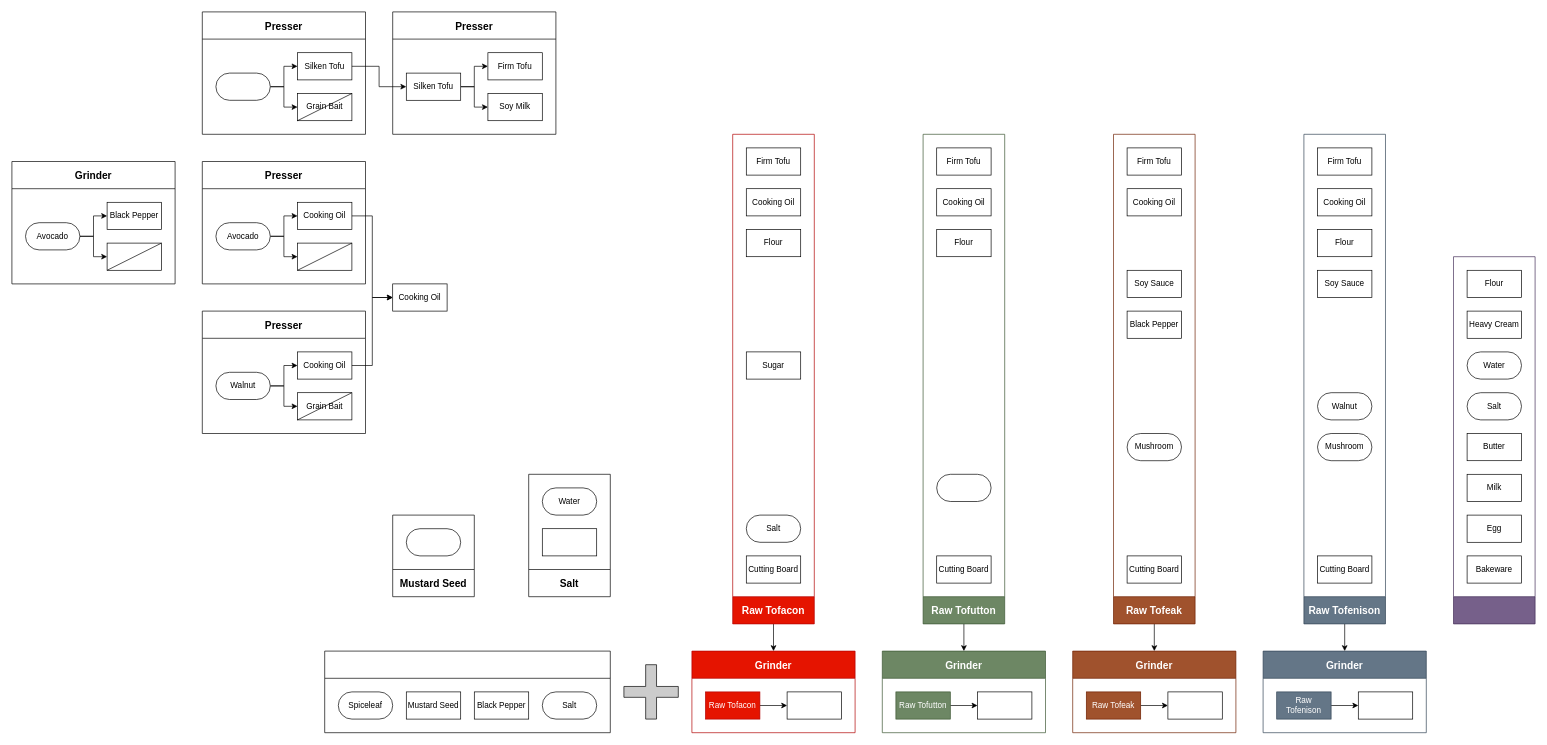
The diagram is 1547 pixels wide and 745 high, and some of its shapes have lost their labels. Each missing label, with the box of its shape:
Brioche: (1453, 256, 1535, 624)
Fruit Bait: (297, 242, 352, 270)
Ground Beef: (1167, 691, 1222, 719)
Ground Mutton: (977, 691, 1032, 719)
Ground Pork: (786, 691, 842, 719)
Ground Venison: (1358, 691, 1413, 719)
Mustard: (406, 528, 461, 556)
Patty Ingredients: (324, 650, 610, 733)
Pot: (542, 528, 597, 556)
Potato: (936, 474, 991, 502)
Soybean: (215, 72, 270, 100)
Veggie Bait: (106, 242, 162, 270)
